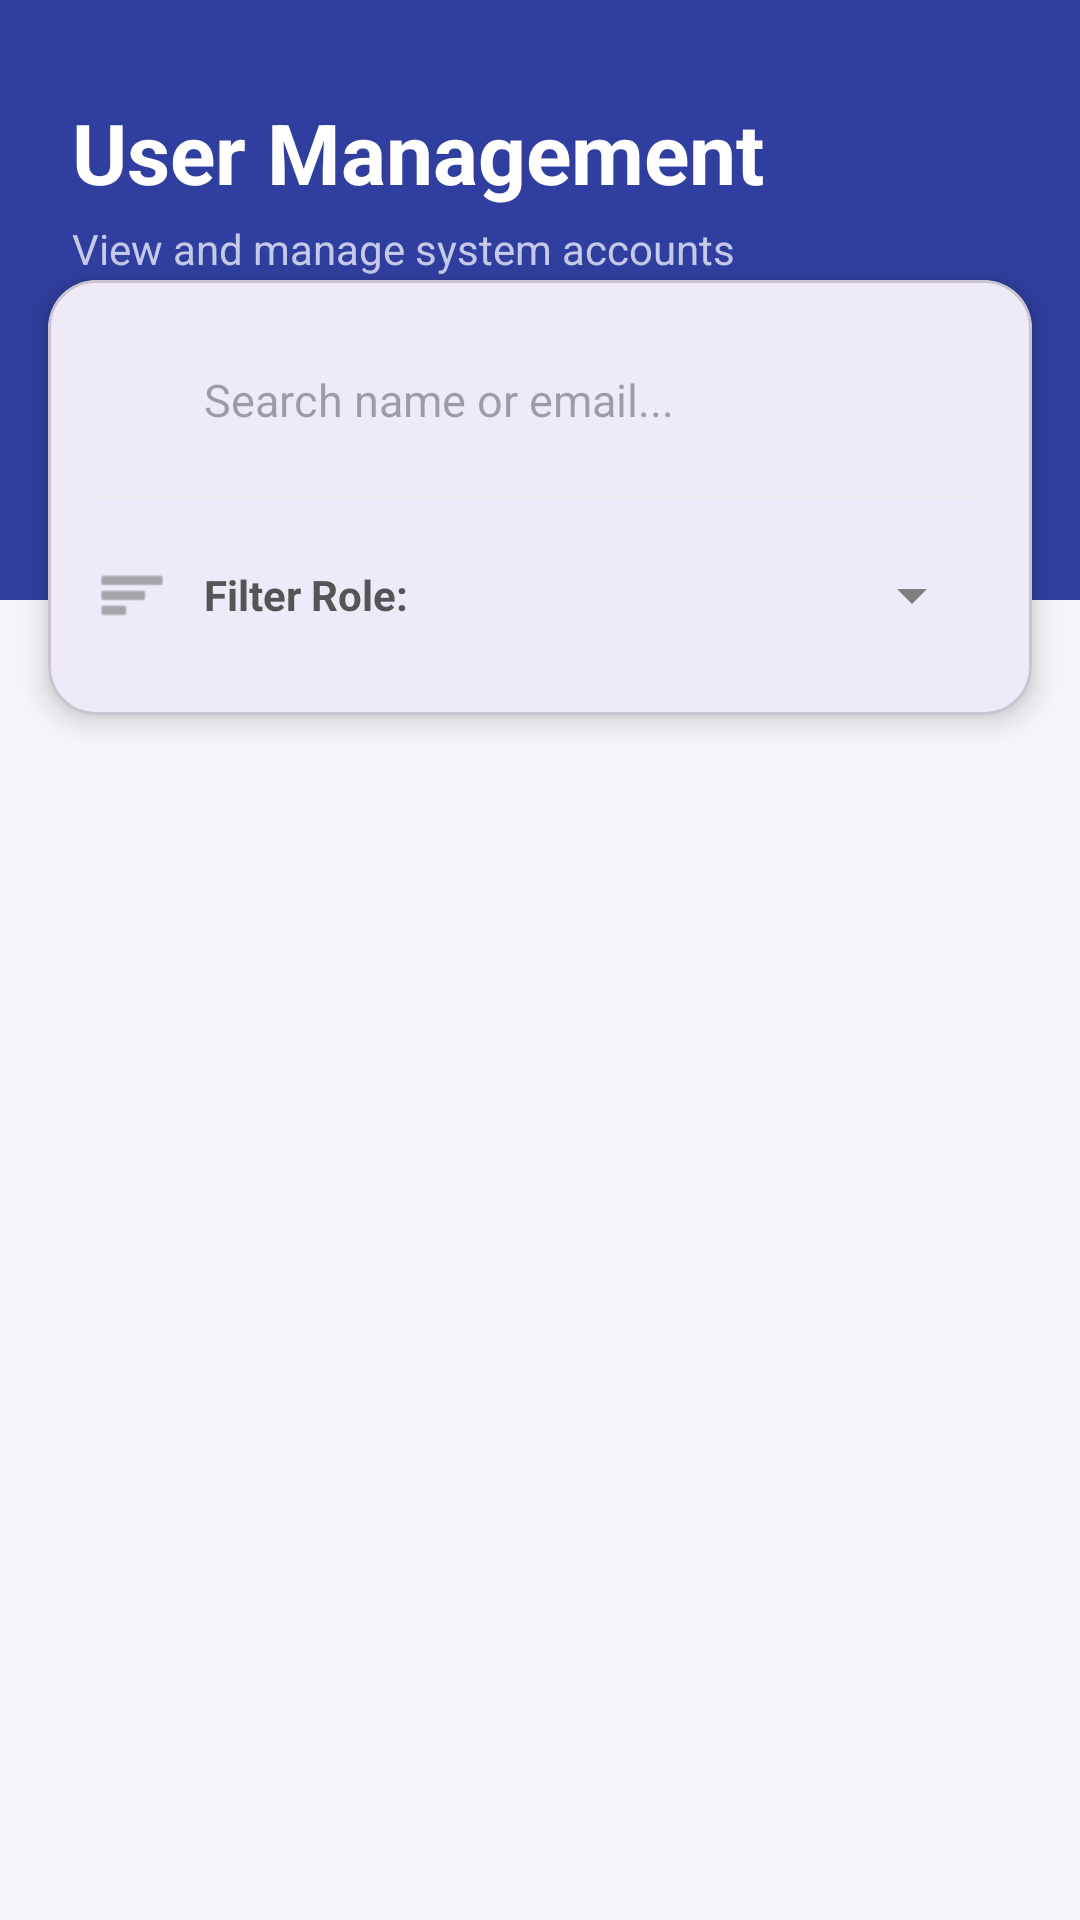

Icons on this 1080 × 1920 Android screen, each with the point to tap as point (x, y):
sort by size: point (132, 595)
